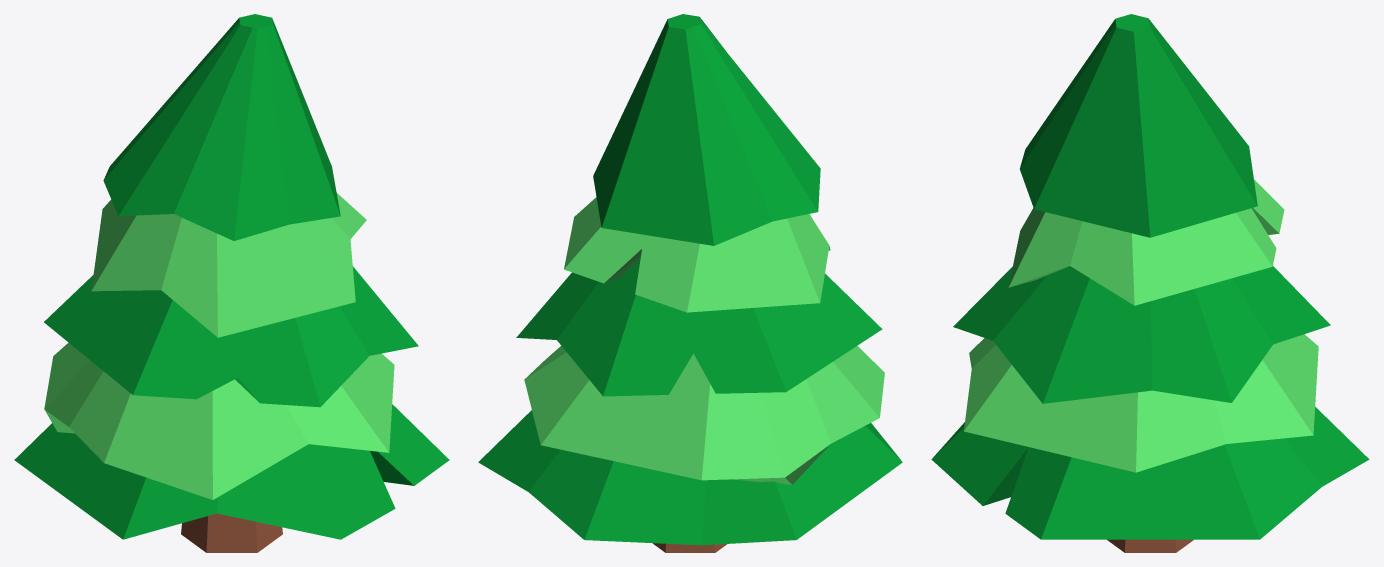
3 views of the same model, side by side, from view 1: azimuth 30°, elevation 25°; view 2: azimuth 150°, elevation 25°; view 3: azimuth 270°, elevation 25° (orthographic). The views are drawn at different scales.
Visible parts, largest first — view 1: Cylinder.005, Cylinder.002, Cylinder.003, Cylinder.001, Cylinder.004, Cylinder; view 2: Cylinder.005, Cylinder.002, Cylinder.003, Cylinder.001, Cylinder.004, Cylinder; view 3: Cylinder.005, Cylinder.003, Cylinder.001, Cylinder.002, Cylinder.004, Cylinder.
Boxes of the visible parts, x1=… form: Cylinder.005: x1=103, y1=14, x2=340, y2=240; Cylinder.002: x1=44, y1=342, x2=394, y2=499; Cylinder.003: x1=44, y1=266, x2=418, y2=407; Cylinder.001: x1=14, y1=404, x2=449, y2=539; Cylinder.004: x1=91, y1=193, x2=366, y2=337; Cylinder: x1=181, y1=513, x2=282, y2=552; Cylinder.005: x1=593, y1=14, x2=820, y2=245; Cylinder.002: x1=524, y1=346, x2=884, y2=484; Cylinder.003: x1=516, y1=259, x2=882, y2=396; Cylinder.001: x1=478, y1=410, x2=902, y2=545; Cylinder.004: x1=564, y1=197, x2=830, y2=312; Cylinder: x1=652, y1=543, x2=726, y2=552; Cylinder.005: x1=1020, y1=14, x2=1257, y2=237; Cylinder.003: x1=953, y1=266, x2=1330, y2=403; Cylinder.001: x1=931, y1=407, x2=1369, y2=539; Cylinder.002: x1=964, y1=334, x2=1318, y2=472; Cylinder.004: x1=1008, y1=179, x2=1284, y2=305; Cylinder: x1=1107, y1=539, x2=1193, y2=552.
Size of the model in its own units: 1007 by 1521 by 1163.
